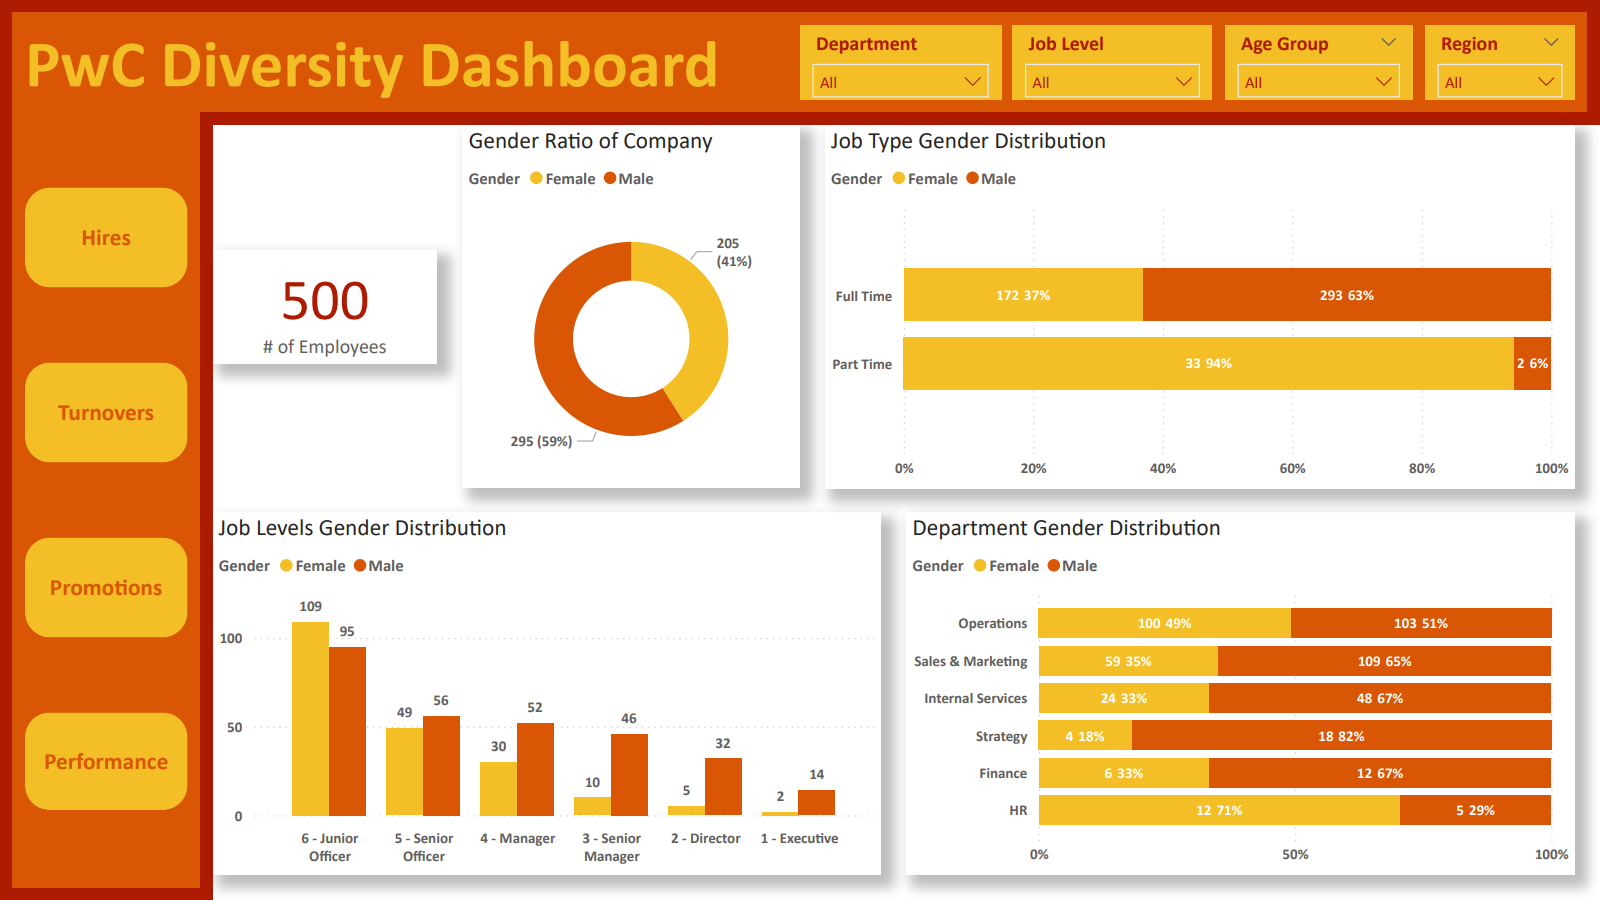

The page's visual inventory and layout, read from the dashboard file:
{"tool":"powerbi","page":{"name":"Overview","canvas":[1280,720],"ordinal":0},"visuals":[{"type":"shape","box":[0,0,1280,100],"z":0},{"type":"shape","box":[10,10,1260,80],"z":1000},{"type":"slicer","fields":{"Values":["Pharma Group AG.Department @01.07.2020"]},"box":[640,20,160.5,60.4],"z":2000},{"type":"slicer","fields":{"Values":["Pharma Group AG.Job Level after FY20 promotions"]},"box":[810,20,160,60.4],"z":3000},{"type":"slicer","fields":{"Values":["Pharma Group AG.Age group"]},"box":[980,20,150,60.4],"z":4000},{"type":"slicer","fields":{"Values":["Pharma Group AG.Region group: nationality 1"]},"box":[1140,20,120,60.4],"z":5000},{"type":"shape","box":[0,99,170,621],"z":6000},{"type":"shape","box":[10,88,150,622],"z":7000},{"type":"actionButton","box":[20,150,130,80],"z":8000},{"type":"actionButton","box":[20,290,130,80],"z":9000},{"type":"actionButton","box":[20,430,130,80],"z":10000},{"type":"actionButton","box":[20,570,130,78],"z":11000},{"type":"card","fields":{"Values":["CountNonNull(Pharma Group AG.Employee ID)"]},"box":[170,200,180,90.6],"z":12000},{"type":"donutChart","title":"Gender Ratio of Company","fields":{"Y":["CountNonNull(Pharma Group AG.Gender)"],"Series":["Pharma Group AG.Gender"]},"box":[370,100,270,290],"z":13000},{"type":"clusteredColumnChart","title":"Job Levels Gender Distribution","fields":{"Series":["Pharma Group AG.Gender"],"Category":["Pharma Group AG.Job Level after FY20 promotions"],"Y":["CountNonNull(Pharma Group AG.Job Level after FY20 promotions)"]},"box":[170,410,535,290],"z":14000},{"type":"hundredPercentStackedBarChart","title":"Department Gender Distribution","fields":{"Category":["Pharma Group AG.Department @01.07.2020"],"Y":["CountNonNull(Pharma Group AG.Department @01.07.2020)"],"Series":["Pharma Group AG.Gender"]},"box":[725,410,535,290],"z":15000},{"type":"hundredPercentStackedBarChart","title":"Job Type Gender Distribution","fields":{"Series":["Pharma Group AG.Gender"],"Category":["Pharma Group AG.Time type"],"Y":["CountNonNull(Pharma Group AG.Time type)"]},"box":[660,100,600,290.9],"z":16000}]}

Visuals, with their boxes in screenshot pixels (x1, y1, x2, y2), scaled from the page's 1280x720 canvas onto the 1600x900 screenshot:
shape: left=0, top=0, right=1599, bottom=125
shape: left=12, top=12, right=1588, bottom=112
slicer - Pharma Group AG.Department @01.07.2020: left=800, top=25, right=1001, bottom=100
slicer - Pharma Group AG.Job Level after FY20 promotions: left=1012, top=25, right=1212, bottom=100
slicer - Pharma Group AG.Age group: left=1225, top=25, right=1412, bottom=100
slicer - Pharma Group AG.Region group: nationality 1: left=1425, top=25, right=1575, bottom=100
shape: left=0, top=124, right=212, bottom=899
shape: left=12, top=110, right=200, bottom=888
actionButton: left=25, top=188, right=188, bottom=288
actionButton: left=25, top=362, right=188, bottom=462
actionButton: left=25, top=538, right=188, bottom=638
actionButton: left=25, top=712, right=188, bottom=810
card - CountNonNull(Pharma Group AG.Employee ID): left=212, top=250, right=438, bottom=363
"Gender Ratio of Company" donutChart: left=462, top=125, right=800, bottom=488
"Job Levels Gender Distribution" clusteredColumnChart: left=212, top=512, right=881, bottom=875
"Department Gender Distribution" hundredPercentStackedBarChart: left=906, top=512, right=1575, bottom=875
"Job Type Gender Distribution" hundredPercentStackedBarChart: left=825, top=125, right=1575, bottom=489
